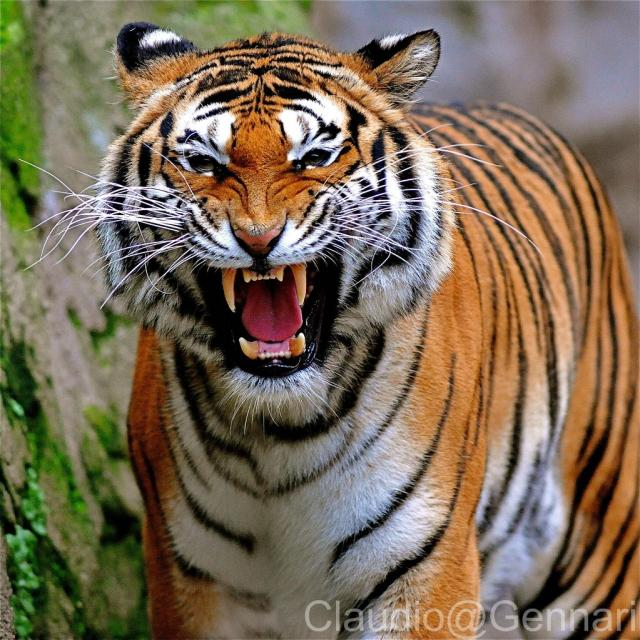Tiger: (18, 21, 640, 640)
